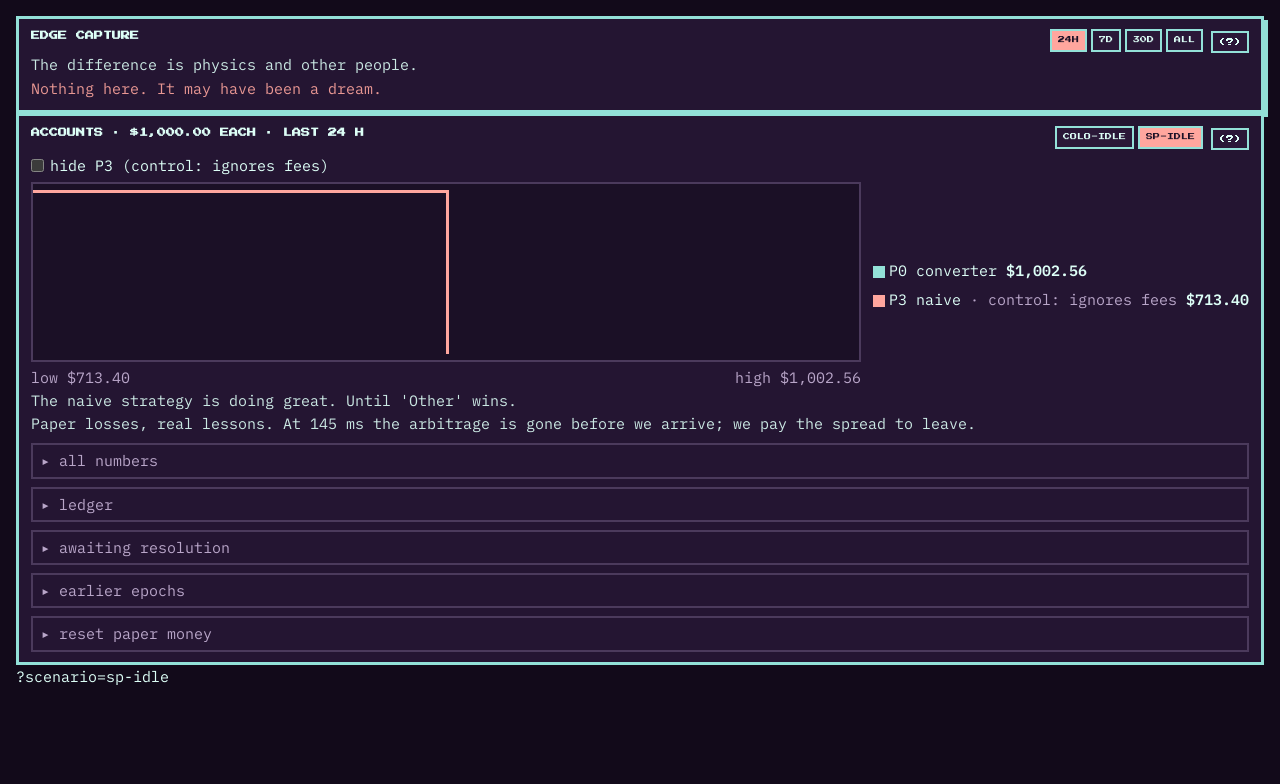
Paper › hides minute marks in the ledger by default, shows them on request, and still pages
Expected: the text "mark" is not shown
Step 1. Click the heading "ledger" → [86, 504], box [59,494,113,514]
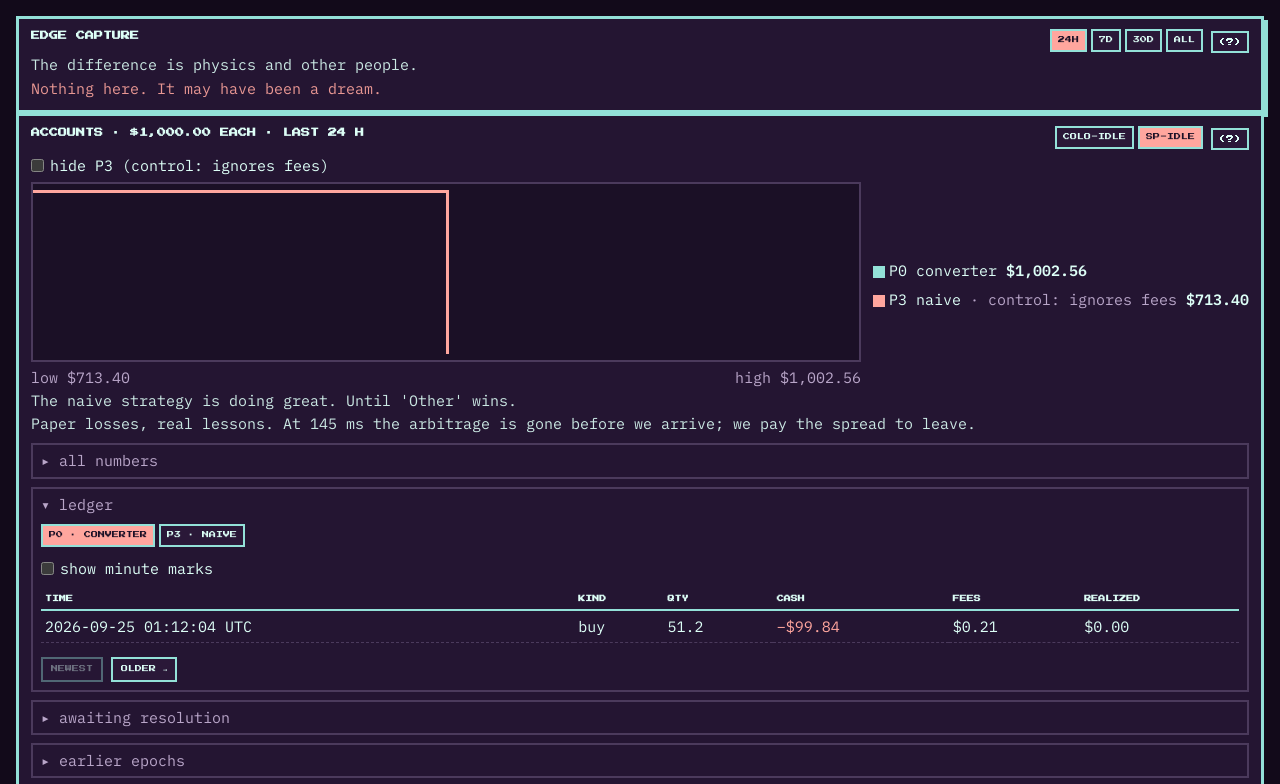
Step 2. Click the button "OLDER →" → [144, 669], box [111,657,177,682]
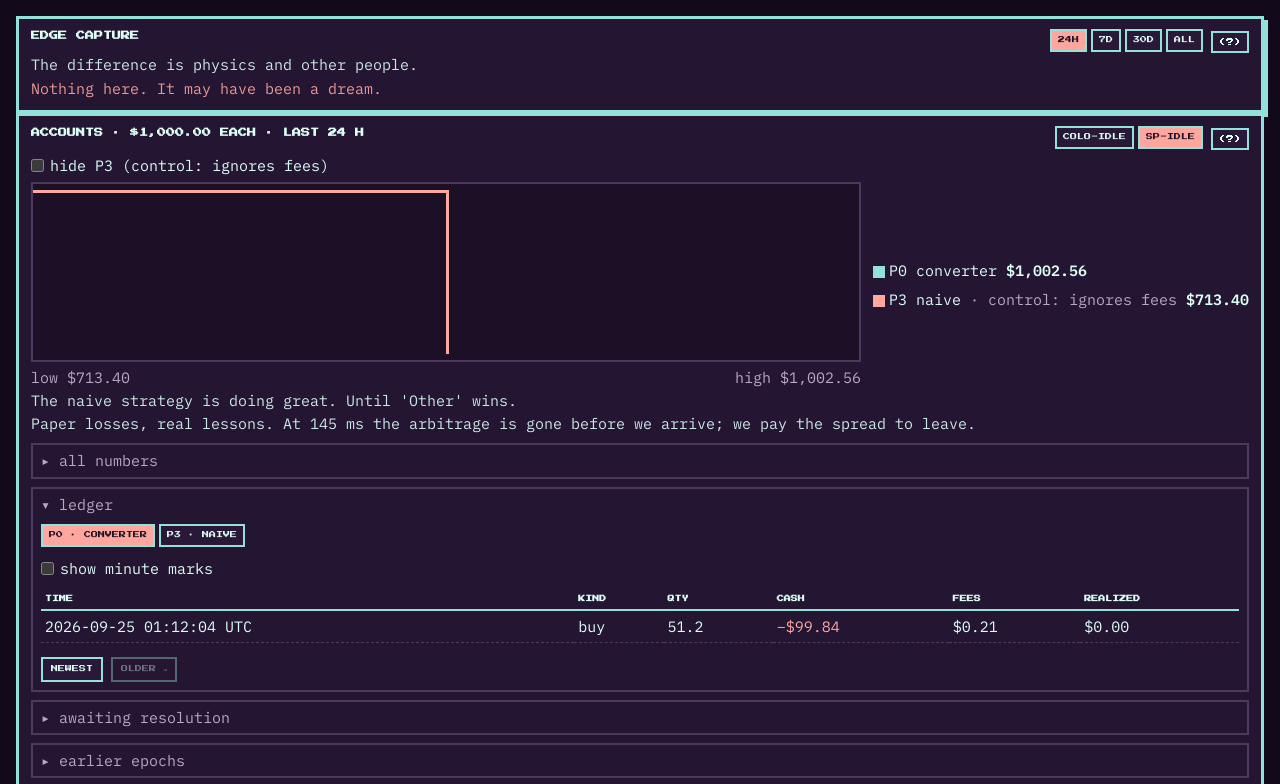
Result: the checkbox labelled "show minute marks" is not checked
Step 3. Click the checkbox labelled "show minute marks" → [48, 568], box [41,562,54,575]
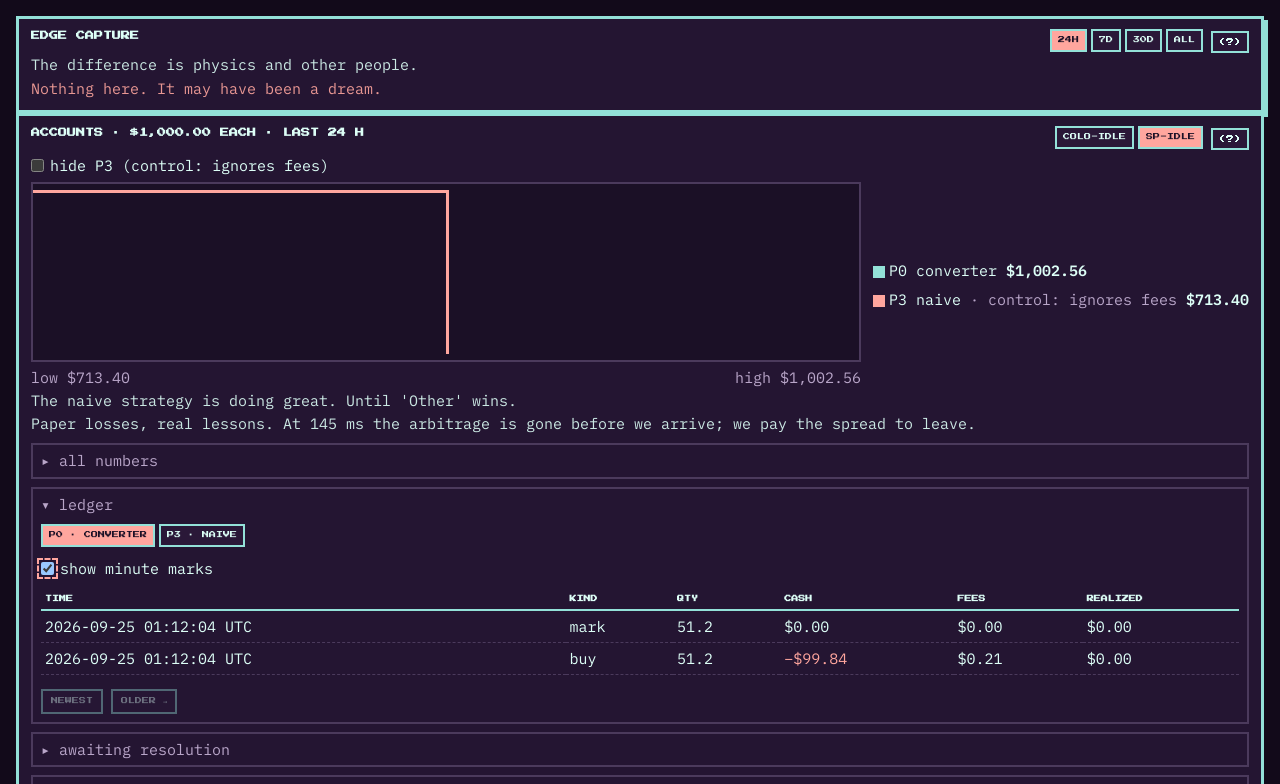
Result: the text "mark" is shown at [566,610,673,642]
